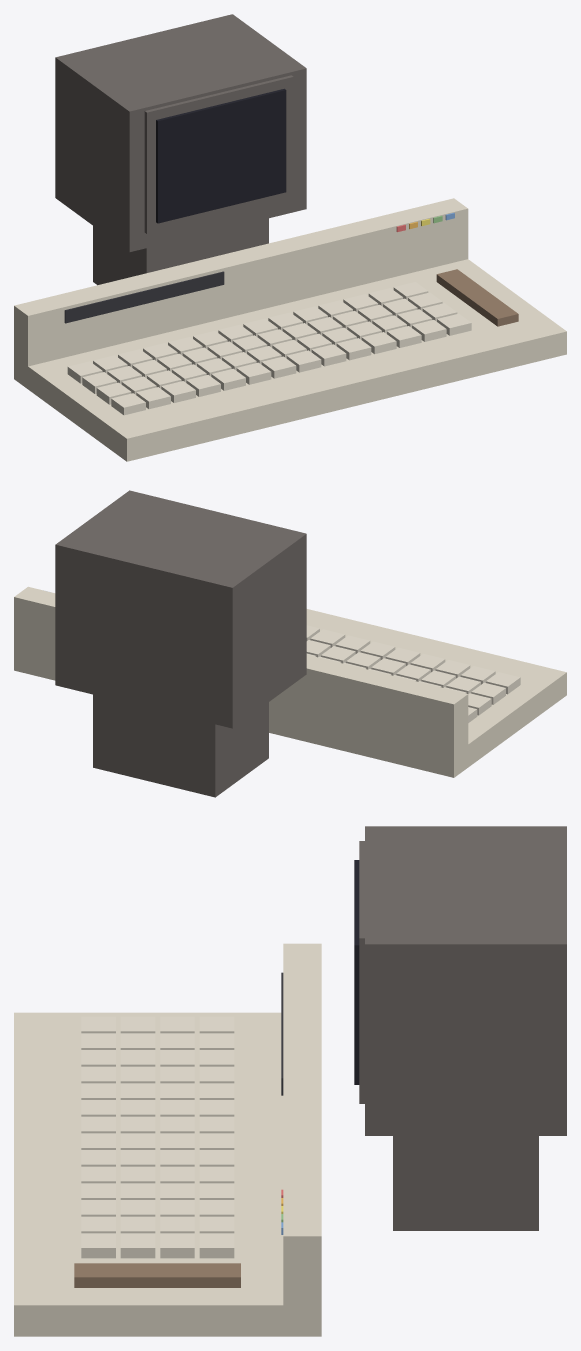
File: commodore64.glb
3 views of the same model, one above another, from view 1: azimuth 30°, elevation 25°; view 2: azimuth 150°, elevation 25°; view 3: azimuth 270°, elevation 25° (orthographic). The views are drawn at different scales.
Visible parts, largest first — view 1: c64_body, crt_body, c64_rear_riser, screen, screen_bezel, crt_stand, logo_plate, c64_front_lip, fkey_0, key_0_0; view 2: crt_body, c64_rear_riser, c64_body, crt_stand, key_0_0, key_1_0; view 3: crt_body, c64_body, c64_rear_riser, crt_stand, screen_bezel, screen, fkey_0, fkey_1, fkey_2, fkey_3, key_1_13, key_3_13 (+22 smaller).
Part boxes in pixels (x1,y1,x2,y2): c64_body: [14, 259, 566, 461]; crt_body: [55, 14, 306, 252]; c64_rear_riser: [14, 198, 468, 372]; screen: [156, 88, 286, 223]; screen_bezel: [144, 75, 293, 233]; crt_stand: [93, 218, 268, 285]; logo_plate: [64, 271, 224, 323]; c64_front_lip: [114, 345, 566, 460]; fkey_0: [480, 301, 518, 326]; key_0_0: [111, 393, 145, 415]; crt_body: [55, 490, 306, 728]; c64_rear_riser: [14, 586, 468, 761]; c64_body: [14, 609, 566, 777]; crt_stand: [93, 694, 268, 797]; key_0_0: [486, 672, 520, 694]; key_1_0: [471, 682, 505, 704]; crt_body: [365, 826, 566, 1135]; c64_body: [14, 1012, 321, 1336]; c64_rear_riser: [283, 943, 321, 1314]; crt_stand: [393, 1136, 538, 1230]; screen_bezel: [359, 841, 364, 1103]; screen: [354, 860, 359, 1084]; fkey_0: [74, 1263, 122, 1287]; fkey_1: [113, 1263, 162, 1287]; fkey_2: [153, 1263, 201, 1287]; fkey_3: [192, 1263, 240, 1287]; key_1_13: [120, 1233, 155, 1258]; key_3_13: [199, 1233, 234, 1258].
Bounding box in the file's own units: 3.6 × 1.75 × 2.87.
